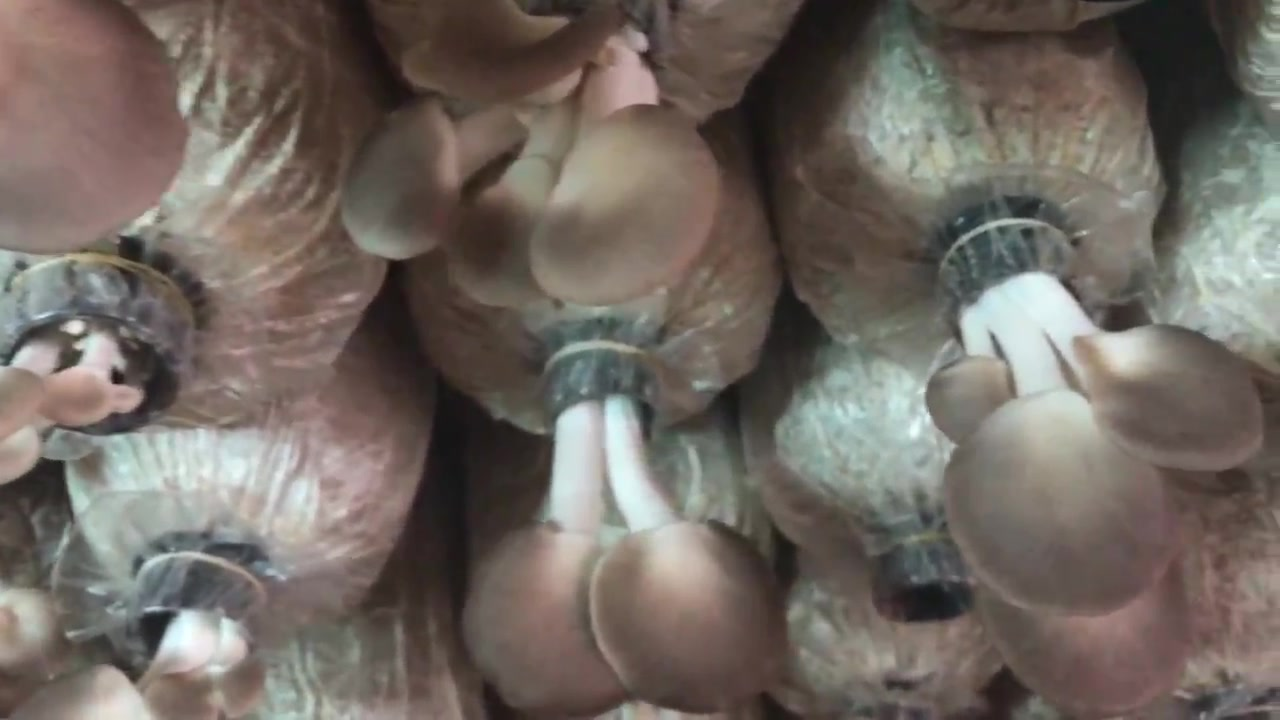nam: (930, 220, 1260, 712), (464, 345, 786, 710), (345, 1, 721, 303), (1, 8, 185, 253), (1, 266, 203, 480), (11, 560, 267, 720)
